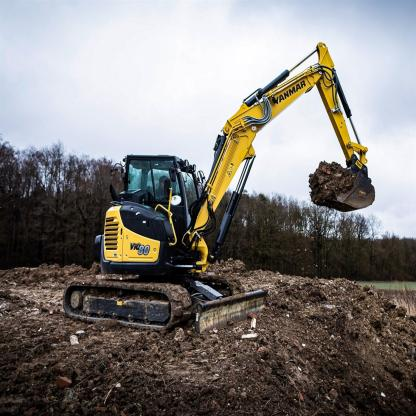excavator: (60, 41, 380, 358)
